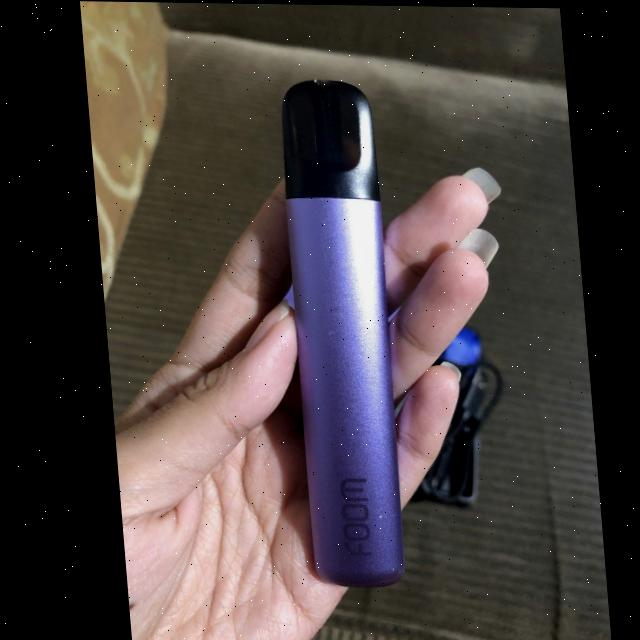vape: (272, 77, 404, 589)
